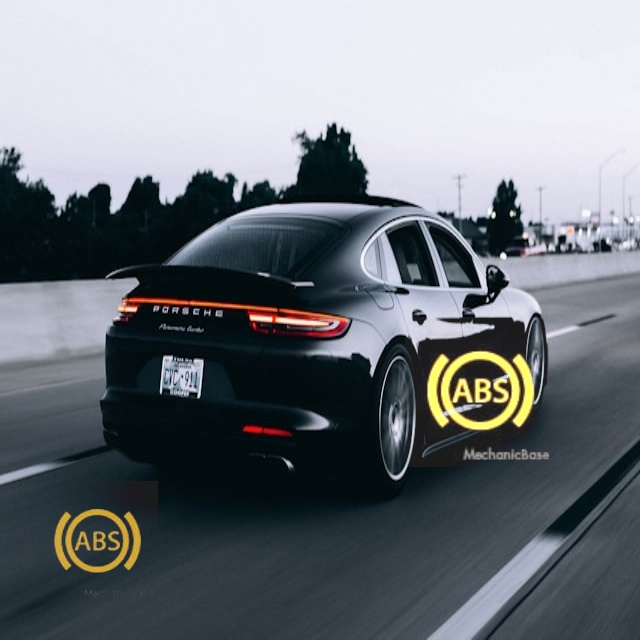symbol: (405, 317, 555, 467), (36, 481, 158, 603)
